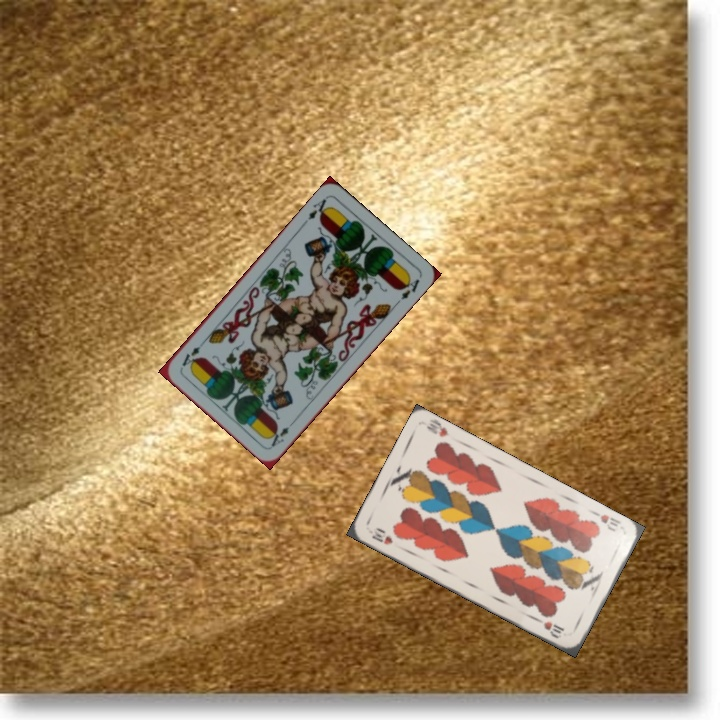EA: (303, 193, 332, 223), (266, 423, 292, 449)
H10: (589, 507, 623, 534), (368, 524, 395, 547)
